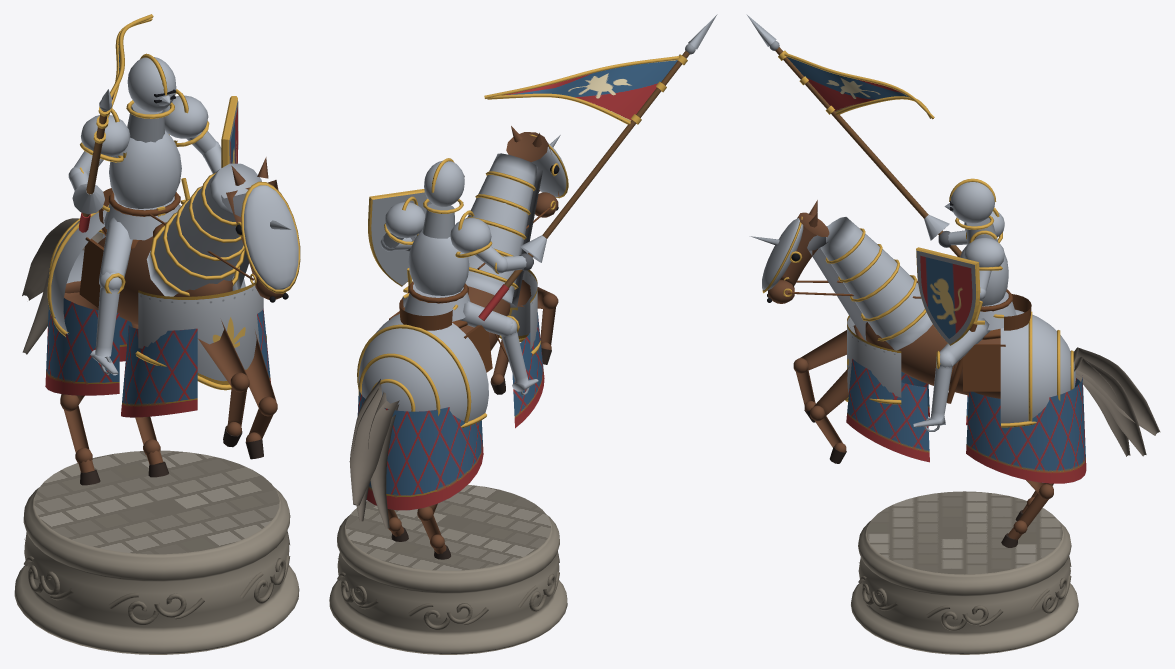
Rendered from 23-knight.glb.
The picture shows the model from 3 angles, left to right: view 1: azimuth 30°, elevation 25°; view 2: azimuth 150°, elevation 25°; view 3: azimuth 270°, elevation 25°; orthographic projection. The views are drawn at different scales.
Parts seen in each view (by area): view 1: Horse, Pedestal, Knight, Lance, Shield; view 2: Horse, Pedestal, Knight, Lance, Shield; view 3: Horse, Pedestal, Knight, Lance, Shield.
Boxes of the visible parts, x1=… form: Horse: x1=22, y1=157, x2=300, y2=485; Pedestal: x1=14, y1=450, x2=299, y2=654; Knight: x1=68, y1=53, x2=245, y2=375; Lance: x1=72, y1=14, x2=153, y2=232; Shield: x1=221, y1=96, x2=238, y2=167; Horse: x1=349, y1=126, x2=568, y2=559; Pedestal: x1=329, y1=484, x2=567, y2=654; Knight: x1=380, y1=158, x2=538, y2=395; Lance: x1=478, y1=14, x2=717, y2=320; Shield: x1=368, y1=189, x2=431, y2=286; Horse: x1=749, y1=200, x2=1160, y2=547; Pedestal: x1=851, y1=491, x2=1078, y2=654; Knight: x1=913, y1=178, x2=1016, y2=431; Lance: x1=746, y1=14, x2=961, y2=257; Shield: x1=916, y1=247, x2=980, y2=345.
Bounding box in the file's own units: 4.35 × 8.79 × 6.33.
18 materials, 5 textured.
